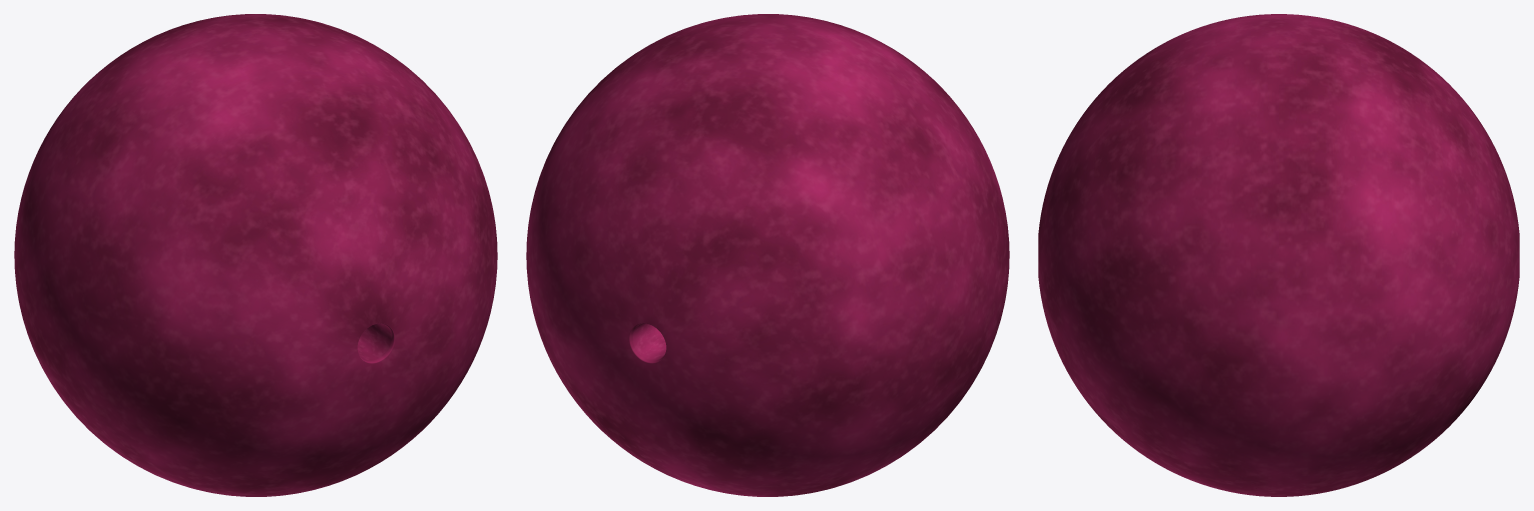
File: ruby-12mm.glb
3 views of the same model, side by side, from view 1: azimuth 30°, elevation 25°; view 2: azimuth 150°, elevation 25°; view 3: azimuth 270°, elevation 25° (orthographic).
Parts seen in each view (by area): view 1: ruby.001; view 2: ruby.001; view 3: ruby.001.
Boxes of the visible parts, x1,y1,x2,y2 form: ruby.001: (14, 14, 497, 496); ruby.001: (526, 14, 1009, 496); ruby.001: (1038, 14, 1519, 496).
Bounding box in the file's own units: 0.012 × 0.012 × 0.012.
2 materials, 1 textured.
